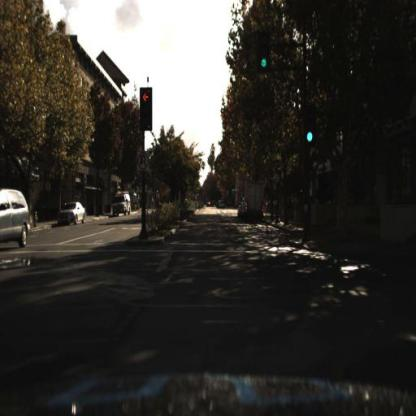car: (243, 177, 266, 223), (59, 200, 88, 229), (111, 189, 133, 220)
trafficLight: (260, 35, 270, 72)
trafficLight-Green: (304, 111, 316, 146), (259, 36, 269, 74)
trafficLight-RedLeft: (139, 85, 155, 131), (142, 90, 152, 137)
truck: (242, 177, 266, 224)
